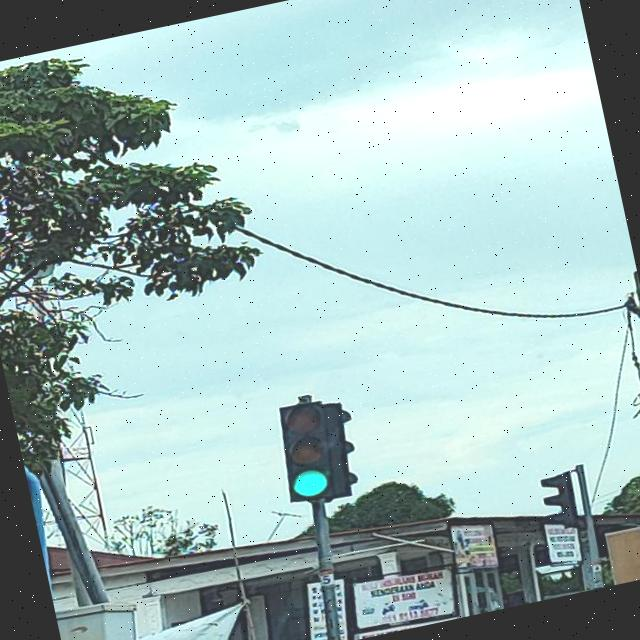green_light: (270, 399, 342, 506)
